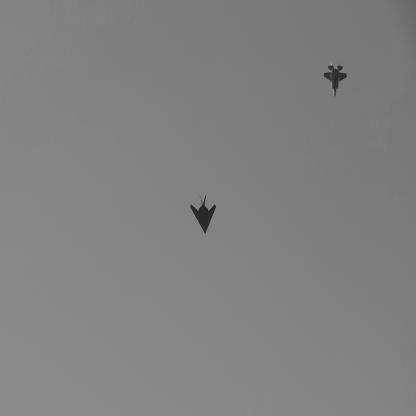F117: (191, 196, 218, 236)
F35: (325, 62, 349, 99)
